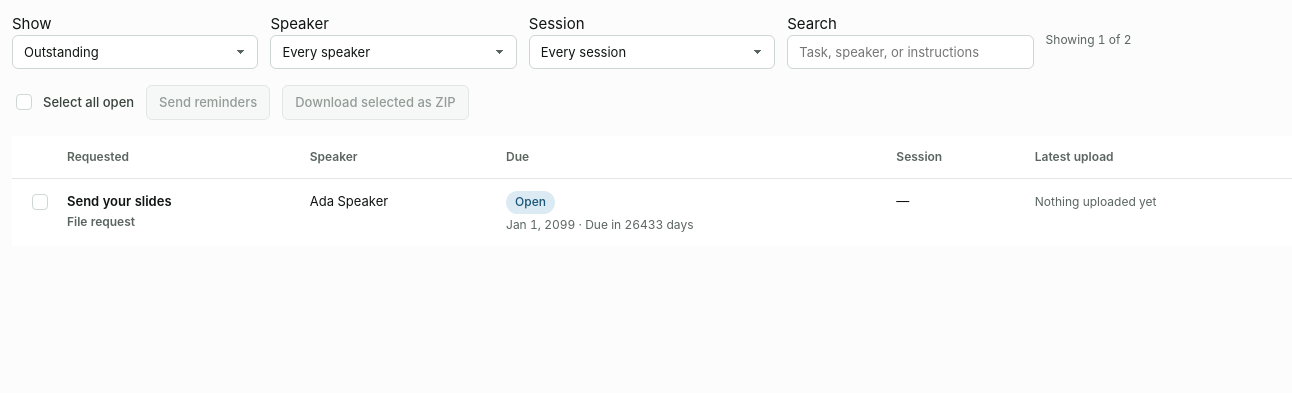
it: the requested-work tracker › counts only the open share of a selection as remindable
This screenshot has width=1292, height=393.
Step 1. Select "Every task" in the dropdown labelled "Show" → (135, 52), box [12,35,258,69]
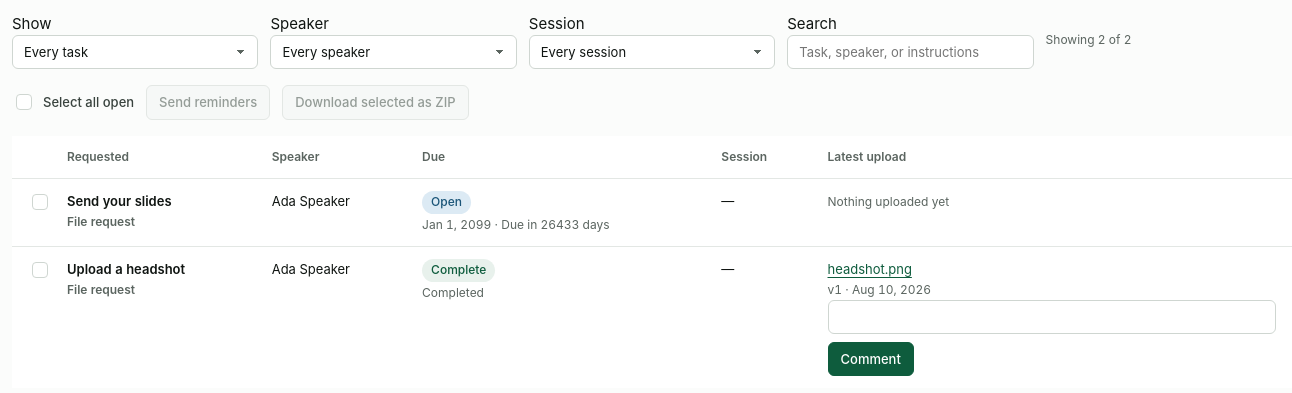
Step 2. Click the checkbox named "Send your slides for Ada Speaker" → (40, 202), box [32,194,48,210]
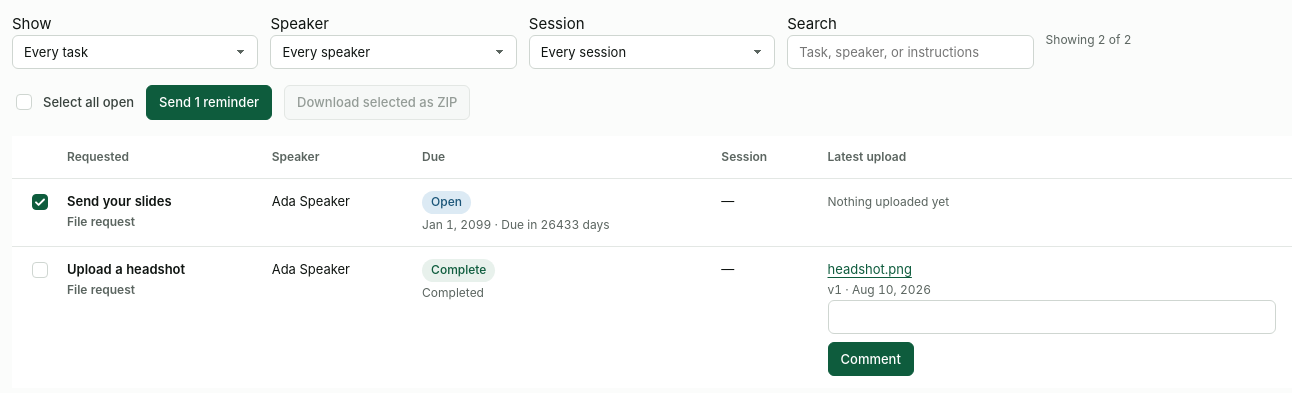
Step 3. Click the checkbox named "Upload a headshot for Ada Speaker" → (40, 270), box [32,262,48,278]
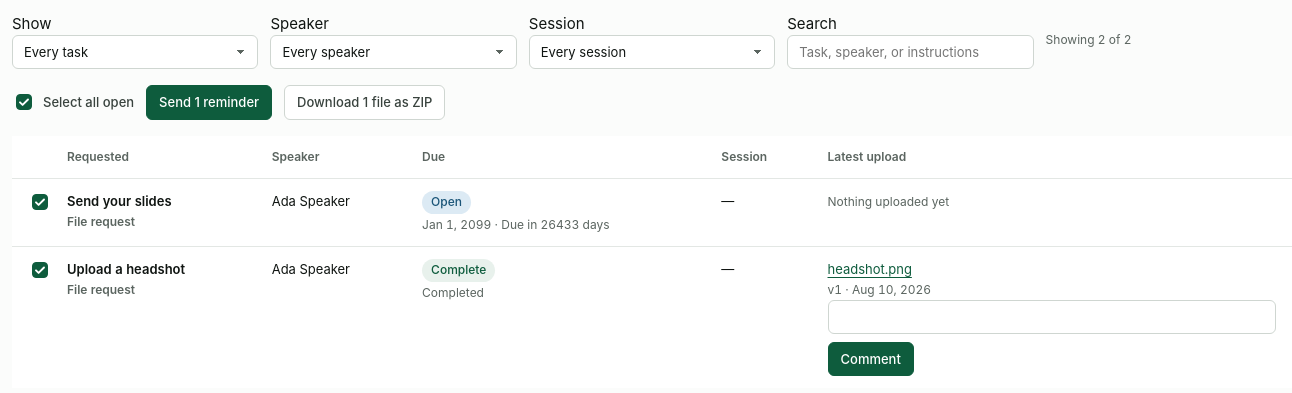
Now the button "Send 1 reminder" is enabled, box [146,85,272,120]
Now the button "Download 1 file as ZIP" is enabled, box [284,85,445,120]
